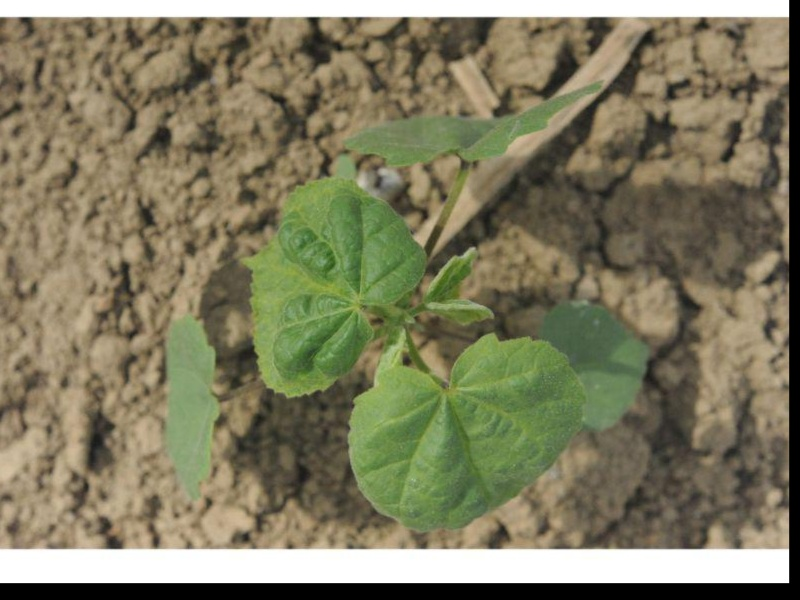velvet: (163, 80, 650, 534)
